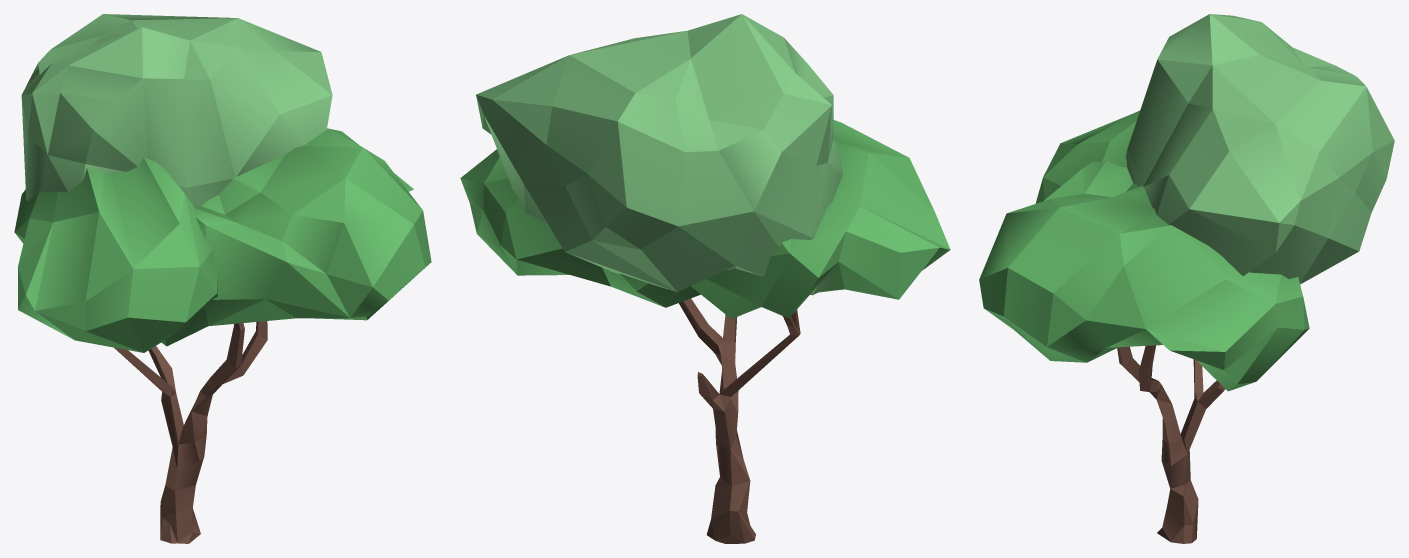
The model's file is tree_002.glb.
The picture shows the model from 3 angles, left to right: view 1: azimuth 30°, elevation 25°; view 2: azimuth 150°, elevation 25°; view 3: azimuth 270°, elevation 25°; orthographic projection. The views are drawn at different scales.
Parts seen in each view (by area): view 1: tree_002; view 2: tree_002; view 3: tree_002.
Part boxes in pixels (bbox=[...]): tree_002: bbox=[14, 14, 431, 543]; tree_002: bbox=[460, 14, 950, 543]; tree_002: bbox=[979, 14, 1394, 543].
Size of the model in its own units: 5.16 by 6.13 by 4.52.
Materials: 1 (1 with a texture image).
